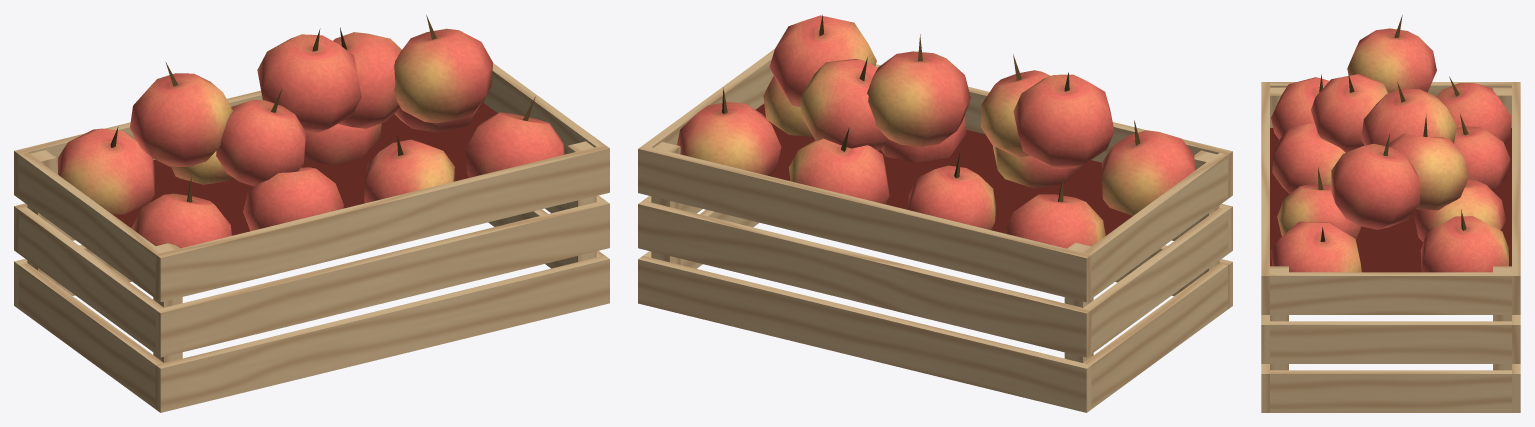
Rendered from Prop_FruitCrate_Peach.fbx.
3 views of the same model, side by side, from view 1: azimuth 30°, elevation 25°; view 2: azimuth 150°, elevation 25°; view 3: azimuth 270°, elevation 25° (orthographic). The views are drawn at different scales.
Visible parts, largest first — view 1: Prop_FruitCrate_Peach_LOD0; view 2: Prop_FruitCrate_Peach_LOD0; view 3: Prop_FruitCrate_Peach_LOD0.
Boxes of the visible parts, x1,y1,x2,y2 form: Prop_FruitCrate_Peach_LOD0: (14, 15, 609, 412); Prop_FruitCrate_Peach_LOD0: (638, 14, 1232, 412); Prop_FruitCrate_Peach_LOD0: (1261, 15, 1520, 412).
Size of what is drawn, in the model's own units: 0.85 by 0.4936 by 0.48.
Materials: 1 (1 with a texture image).
